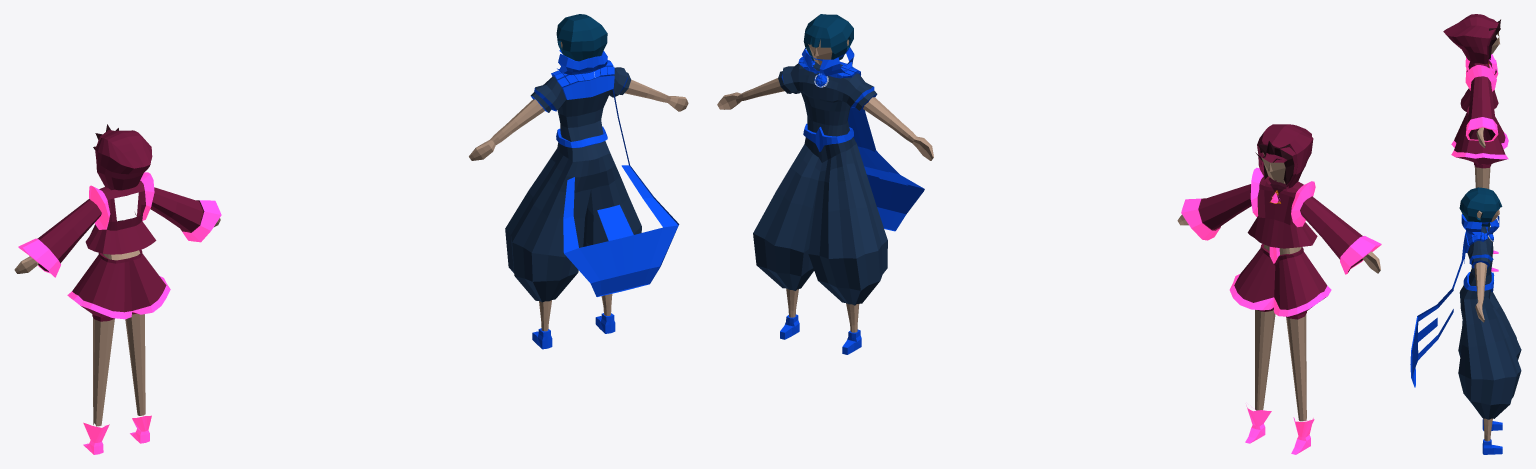
File: persos.glb
3 views of the same model, side by side, from view 1: azimuth 30°, elevation 25°; view 2: azimuth 150°, elevation 25°; view 3: azimuth 270°, elevation 25° (orthographic). The views are drawn at different scales.
Visible parts, largest first — view 1: lamar, zanit; view 2: lamar, zanit; view 3: lamar, zanit.
Boxes of the visible parts, bbox=[...] form: lamar: bbox=[469, 14, 688, 349]; zanit: bbox=[14, 124, 221, 454]; lamar: bbox=[717, 14, 933, 354]; zanit: bbox=[1177, 124, 1381, 454]; lamar: bbox=[1410, 187, 1521, 454]; zanit: bbox=[1443, 14, 1508, 271].
Size of the model in its own units: 9.23 by 4.24 by 1.7.
